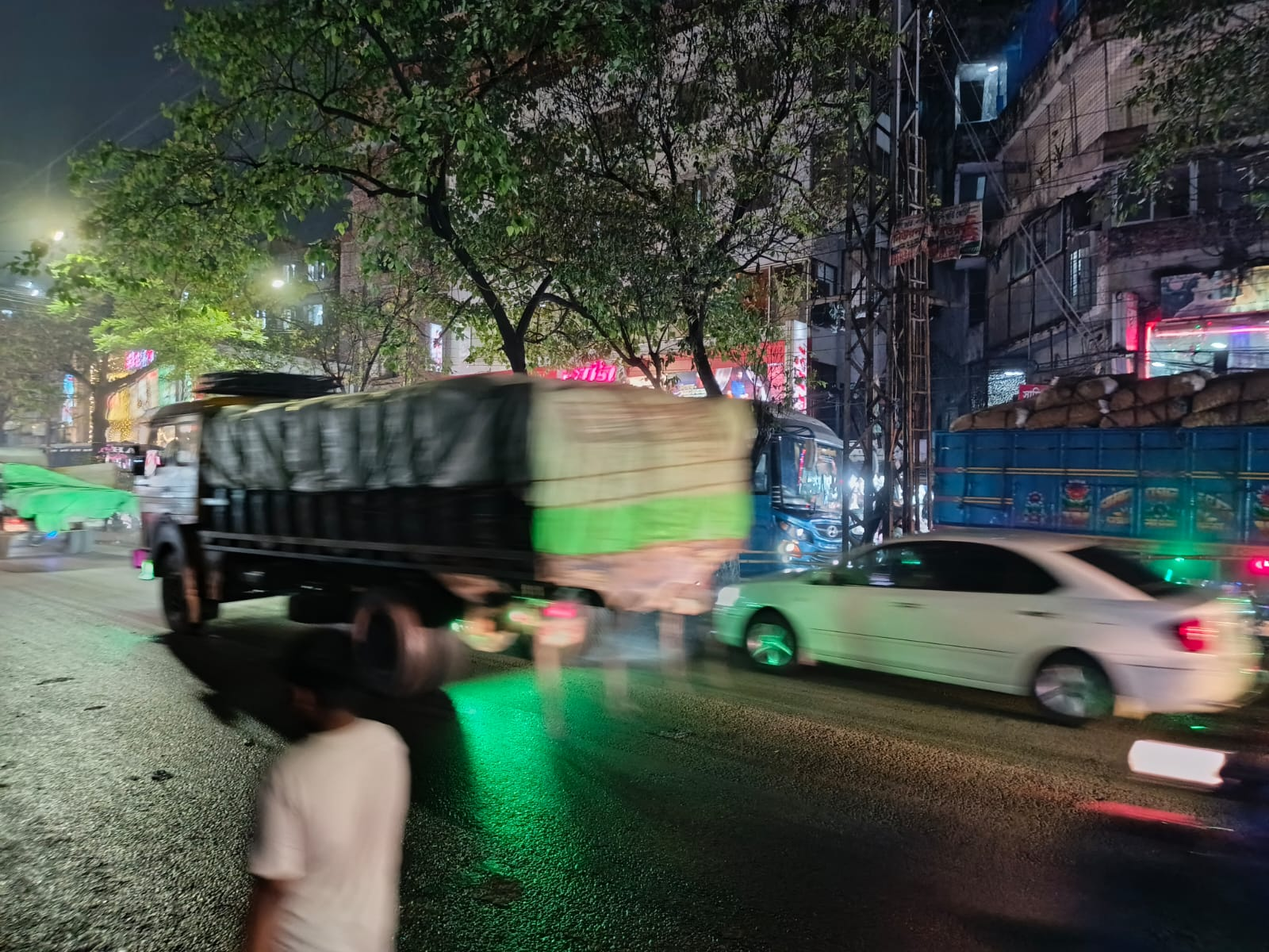Truck: (114, 347, 767, 680)
private car: (732, 503, 1255, 738)
